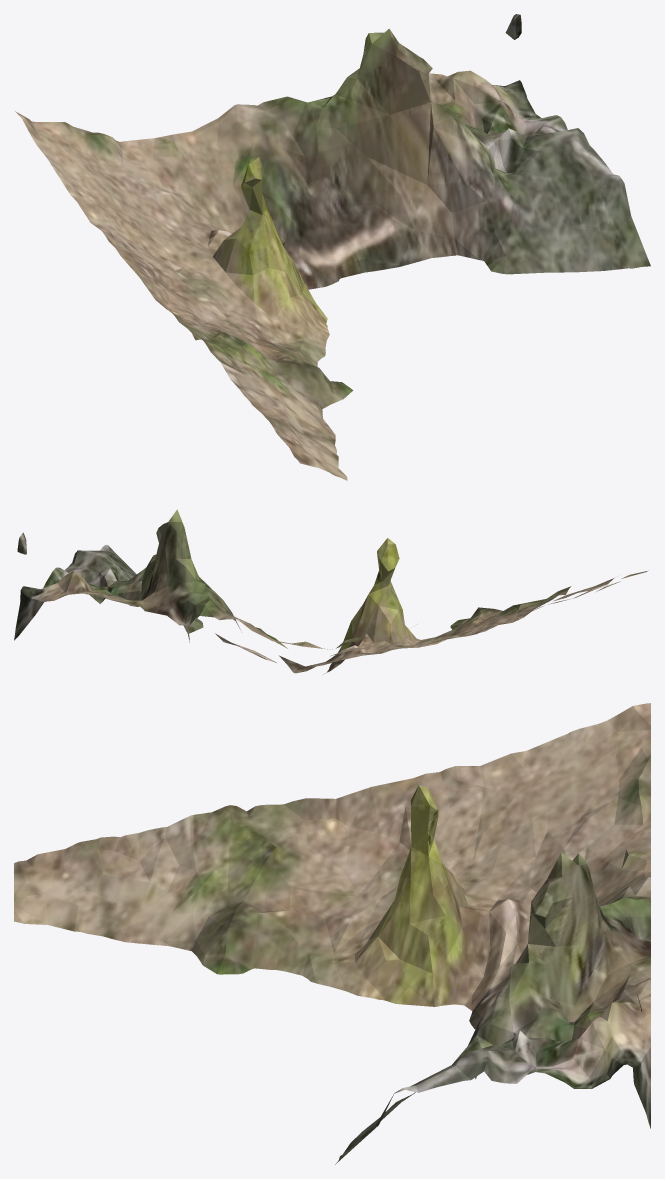
The picture shows the model from 3 angles, top to bottom: view 1: azimuth 30°, elevation 25°; view 2: azimuth 150°, elevation 25°; view 3: azimuth 270°, elevation 25°; orthographic projection. The views are drawn at different scales.
Bounding box in the file's own units: 2.95 × 1.15 × 2.95.
Materials: 2 (2 with a texture image).
